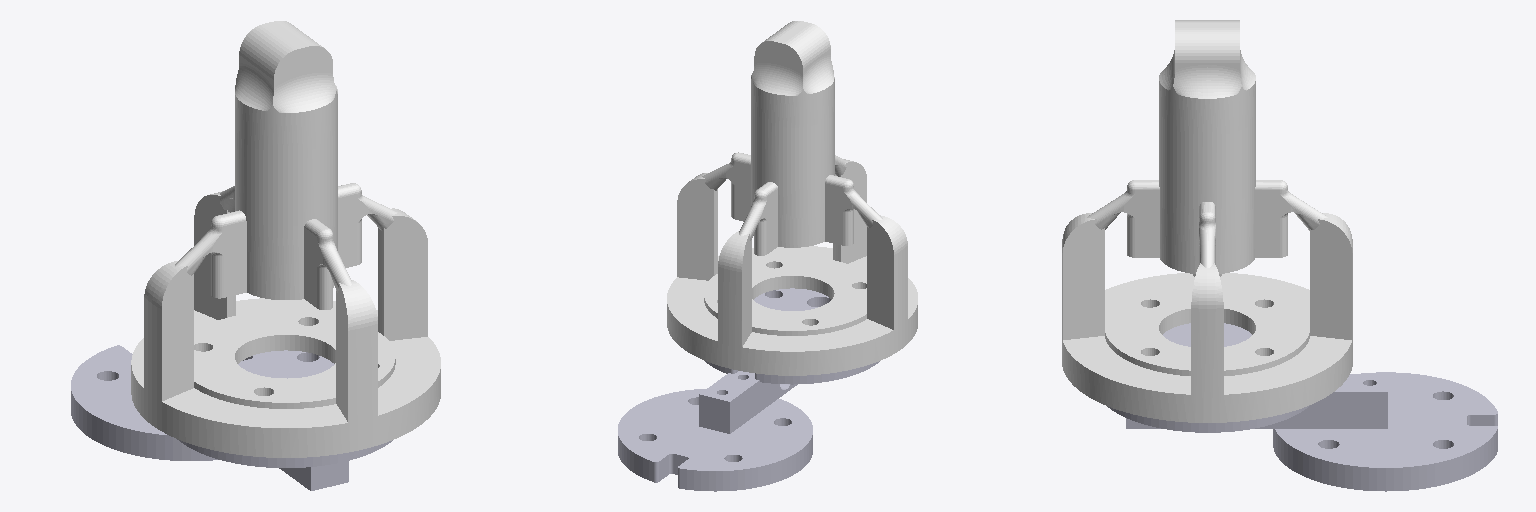
robot.urdf — touch_tool_tcp:
<?xml version="1.0"?>
<!--
  touch_tool_square_20x20.urdf
  TCP de palpação quadrado 20×20 mm para o Touch Pack (Gazebo Classic).

  Geometria da malha (STL, unidade original: mm):
    X: ±45 mm  (largura 90 mm — base de montagem)
    Y: ±45 mm  (profundidade 90 mm)
    Z: -6.5 mm … +108 mm  (comprimento total ≈ 114.5 mm)

  Cadeia de links:
    Link6 → force_sensor_link (Célula de Carga 5 kg montada) → touch_tool_link → tcp_link

  Convenção de frames:
    • force_sensor_link / origem: centro da placa-robô, assenta plana no flange
      (Link6). Montagem single-point (CelulaDeCarga_5kg_Montagem): placa-robô
      ⌀70×8 mm + barra cantilever ao longo de +X + placa do touch_tool ⌀70×8 mm
      em (X=+55 mm, topo Z=+28 mm). O Rz(−90°) da junta aponta a barra p/ −Link6_y.
    • touch_tool_link / origem: topo da placa do touch_tool (−55 mm em Link6_y,
      +28 mm em +Link6_z). O Rz(+90°) da junta desfaz o Rz(−90°) da montagem, logo
      o tool/tcp ficam alinhados ao Link6. O fundo do STL (Z = -6.5 mm na malha) é
      alinhado com +0.0065 m.
    • tcp_link: face de contato quadrada 20×20 mm (ponta do probe), +114.5 mm acima
      da base do tool → TCP em (0, −55, +142.5) mm no frame do flange (Link6).

  Uso standalone (Gazebo):
    Altere o parent do joint "touch_tool_attach" de "Link6" para "world",
    remova o joint "world_to_base" abaixo e spawn via spawn_entity.py.

  Integração no launch (típico):
    Injete o conteúdo entre <robot>…</robot> no URDF combinado do CR10,
    após a definição de Link6, e remova o bloco <robot name="standalone"> deste
    arquivo (use apenas o corpo interno como fragmento xacro/snippet).
-->
<robot name="touch_tool_tcp">

  <!-- ══════════════════════════════════════════════════════════════════
       ROOT (modo standalone): liga a ferramenta ao world para teste.
       Na integração com o CR10 este bloco é substituído por Link6
       como parent direto do joint "touch_tool_attach".
  ══════════════════════════════════════════════════════════════════ -->
  <link name="world"/>

  <joint name="world_to_base" type="fixed">
    <parent link="world"/>
    <child link="Link6"/>
    <origin xyz="0 0 0" rpy="0 0 0"/>
  </joint>

  <!-- Placeholder Link6 (robô real — substituído pelo CR10 na integração). -->
  <link name="Link6">
    <inertial>
      <mass value="0.001"/>
      <inertia ixx="1e-9" ixy="0.0" ixz="0.0"
               iyy="1e-9" iyz="0.0" izz="1e-9"/>
    </inertial>
  </link>

  <!-- ══════════════════════════════════════════════════════════════════
       CÉLULA DE CARGA 5 kg MONTADA (Link6 → touch_tool)
       Montagem única (CelulaDeCarga_5kg_Montagem.stl): placa-robô + barra
       single-point/cantilever + placa do touch_tool.
       Mesh (mm, recentrado): origem no centro da placa-robô, face inferior
       em Z=0, barra ao longo de +X, placa do touch_tool em (X=+55, topo Z=+28).
  ══════════════════════════════════════════════════════════════════ -->
  <link name="force_sensor_link">
    <inertial>
      <origin xyz="0.030 0 0.014" rpy="0 0 0"/>
      <mass value="0.400"/>
      <inertia ixx="1.89e-4" ixy="0.0" ixz="0.0"
               iyy="5.47e-4" iyz="0.0"
               izz="6.84e-4"/>
    </inertial>
    <visual>
      <origin xyz="0 0 0" rpy="0 0 0"/>
      <geometry>
        <mesh filename="package://touch_pack/meshes/CelulaDeCarga_5kg_Montagem.stl"
              scale="0.001 0.001 0.001"/>
      </geometry>
      <material name="silver">
        <color rgba="0.82 0.82 0.88 1.0"/>
      </material>
    </visual>
    <collision name="col_robot_plate">
      <origin xyz="0 0 0.004" rpy="0 0 0"/>
      <geometry>
        <cylinder radius="0.035" length="0.008"/>
      </geometry>
    </collision>
    <collision name="col_loadcell_bar">
      <origin xyz="0.040 0 0.0143" rpy="0 0 0"/>
      <geometry>
        <box size="0.081 0.0127 0.0127"/>
      </geometry>
    </collision>
    <collision name="col_tool_plate">
      <origin xyz="0.055 0 0.024" rpy="0 0 0"/>
      <geometry>
        <cylinder radius="0.035" length="0.008"/>
      </geometry>
    </collision>
  </link>

  <!-- ══════════════════════════════════════════════════════════════════
       CORPO PRINCIPAL DO TCP
  ══════════════════════════════════════════════════════════════════ -->
  <link name="touch_tool_link">

    <!--
      Inércia estimada: alumínio 6061, ≈ 150 g, corpo aproximado como
      caixa uniforme 90×90×114.5 mm:
        Ixx = Iyy = (1/12)·m·(w² + h²) = (1/12)·0.15·(0.009+0.0131) ≈ 2.65e-4 kg·m²
        Izz        = (1/12)·m·(w² + w²) = (1/12)·0.15·0.0162         ≈ 2.03e-4 kg·m²
      CoM no centro geométrico: Z_cm ≈ (6.5 + 114.5/2) mm = 63.75 mm → 0.064 m
    -->
    <inertial>
      <origin xyz="0 0 0.064" rpy="0 0 0"/>
      <mass value="0.150"/>
      <inertia ixx="2.65e-4" ixy="0.0" ixz="0.0"
               iyy="2.65e-4" iyz="0.0"
               izz="2.03e-4"/>
    </inertial>

    <!-- Visual: malha STL (mm → m via scale). Offset +0.0065 m em Z para
         alinhar o fundo do STL (Z_mesh = -6.5 mm) com a origem do link. -->
    <visual>
      <origin xyz="0 0 0.0065" rpy="0 0 0"/>
      <geometry>
        <mesh filename="package://touch_pack/meshes/touch_tool_square_20x20.stl"
              scale="0.001 0.001 0.001"/>
      </geometry>
      <material name="tool_white">
        <color rgba="0.95 0.95 0.95 1.0"/>
      </material>
    </visual>

    <!--
      Colisão simplificada (duas caixas) — mais estável no ODE do Gazebo
      do que a malha completa com 14 822 triângulos.

      col_body  → corpo/base de montagem: cobre Z = 0 … 0.094 m
                  (90×90 mm de largura, acompanha a seção principal).
      col_tip   → haste + face 20×20 mm: cobre Z ≈ 0.087 … 0.125 m
                  (25×25 mm com 1 mm de margem lateral).
    -->
    <collision name="col_body">
      <origin xyz="0 0 0.047" rpy="0 0 0"/>
      <geometry>
        <box size="0.090 0.090 0.094"/>
      </geometry>
    </collision>

    <collision name="col_tip">
      <origin xyz="0 0 0.106" rpy="0 0 0"/>
      <geometry>
        <box size="0.025 0.025 0.038"/>
      </geometry>
    </collision>

  </link>

  <!-- Frame tcp_link na face de contato (ponta do probe 20×20 mm). -->
  <link name="tcp_link"/>

  <!-- ══════════════════════════════════════════════════════════════════
       JUNTAS
       Cadeia e offsets (no frame Link6):
         force_sensor  placa-robô plana no flange; Rz−90° → barra em −Link6_y
         touch_tool    placa do tool: −55 mm em Link6_y, +28 mm em +Link6_z
         tcp_link      +114.5 mm no eixo do probe → TCP (0, −55, +142.5) mm
  ══════════════════════════════════════════════════════════════════ -->
  <!-- Placa-robô assenta plana no flange; Rz−90° aponta a barra p/ −Link6_y. -->
  <joint name="force_sensor_attach" type="fixed">
    <parent link="Link6"/>
    <child link="force_sensor_link"/>
    <origin xyz="0 0 0" rpy="0 0 -1.5708"/>
  </joint>

  <!-- Touch tool na placa superior (X=+55, topo Z=+28 no frame do mesh);
       Rz+90° desfaz o Rz−90° da montagem → tool/tcp alinhados ao Link6. -->
  <joint name="touch_tool_attach" type="fixed">
    <parent link="force_sensor_link"/>
    <child link="touch_tool_link"/>
    <origin xyz="0.055 0 0.028" rpy="0 0 1.5708"/>
  </joint>

  <!-- tcp_link na ponta: 6.5 mm (offset base) + 108 mm (tip) = 114.5 mm. -->
  <joint name="tcp_alias_joint" type="fixed">
    <parent link="touch_tool_link"/>
    <child link="tcp_link"/>
    <origin xyz="0 0 0.1145" rpy="0 0 0"/>
  </joint>

  <!-- ══════════════════════════════════════════════════════════════════
       PROPRIEDADES GAZEBO
  ══════════════════════════════════════════════════════════════════ -->
  <gazebo reference="touch_tool_link">
    <self_collide>false</self_collide>
    <gravity>true</gravity>
    <mu1>0.60</mu1>
    <mu2>0.60</mu2>
    <kp>1.0e5</kp>
    <kd>100.0</kd>
    <maxContacts>4</maxContacts>
    <minDepth>0.0002</minDepth>
    <maxVel>0.05</maxVel>
    <!-- touch_tool → branco -->
    <visual>
      <material>
        <ambient>0.85 0.85 0.85 1</ambient>
        <diffuse>0.95 0.95 0.95 1</diffuse>
        <specular>0.30 0.30 0.30 1</specular>
      </material>
    </visual>
  </gazebo>

  <gazebo reference="Link6">
    <self_collide>false</self_collide>
  </gazebo>

  <gazebo reference="force_sensor_link">
    <self_collide>false</self_collide>
    <gravity>true</gravity>
    <mu1>0.40</mu1>
    <mu2>0.40</mu2>
    <kp>1.0e5</kp>
    <kd>100.0</kd>
    <maxContacts>4</maxContacts>
    <minDepth>0.0002</minDepth>
    <maxVel>0.05</maxVel>
    <!-- célula de carga montada → prateado (specular alto = brilho metálico) -->
    <visual>
      <material>
        <ambient>0.55 0.55 0.58 1</ambient>
        <diffuse>0.82 0.82 0.88 1</diffuse>
        <specular>0.95 0.95 1.00 1</specular>
      </material>
    </visual>
  </gazebo>

</robot>

--- What the picture shows (computed from the rendered views, not written in the file) ---
The picture shows the robot from 3 angles, left to right: view 1: azimuth 30°, elevation 25°; view 2: azimuth 150°, elevation 25°; view 3: azimuth 270°, elevation 25°; orthographic projection.
Robot: touch_tool_tcp — 5 links, 4 joints (4 fixed); root link world; default pose: every joint at zero.
Links seen in each view (by area): view 1: touch_tool_link, force_sensor_link; view 2: touch_tool_link, force_sensor_link; view 3: touch_tool_link, force_sensor_link.
Boxes of the visible links, bbox=[...] form: touch_tool_link: bbox=[131, 21, 440, 457]; force_sensor_link: bbox=[71, 345, 392, 490]; touch_tool_link: bbox=[667, 21, 917, 375]; force_sensor_link: bbox=[618, 288, 879, 491]; touch_tool_link: bbox=[1062, 20, 1352, 422]; force_sensor_link: bbox=[1107, 323, 1497, 491].
Size in the robot's own frame: 0.09 by 0.1348 by 0.1425 metres.
Meshes: 2 distinct files referenced, 2 mesh visuals loaded (2 binary STL).
